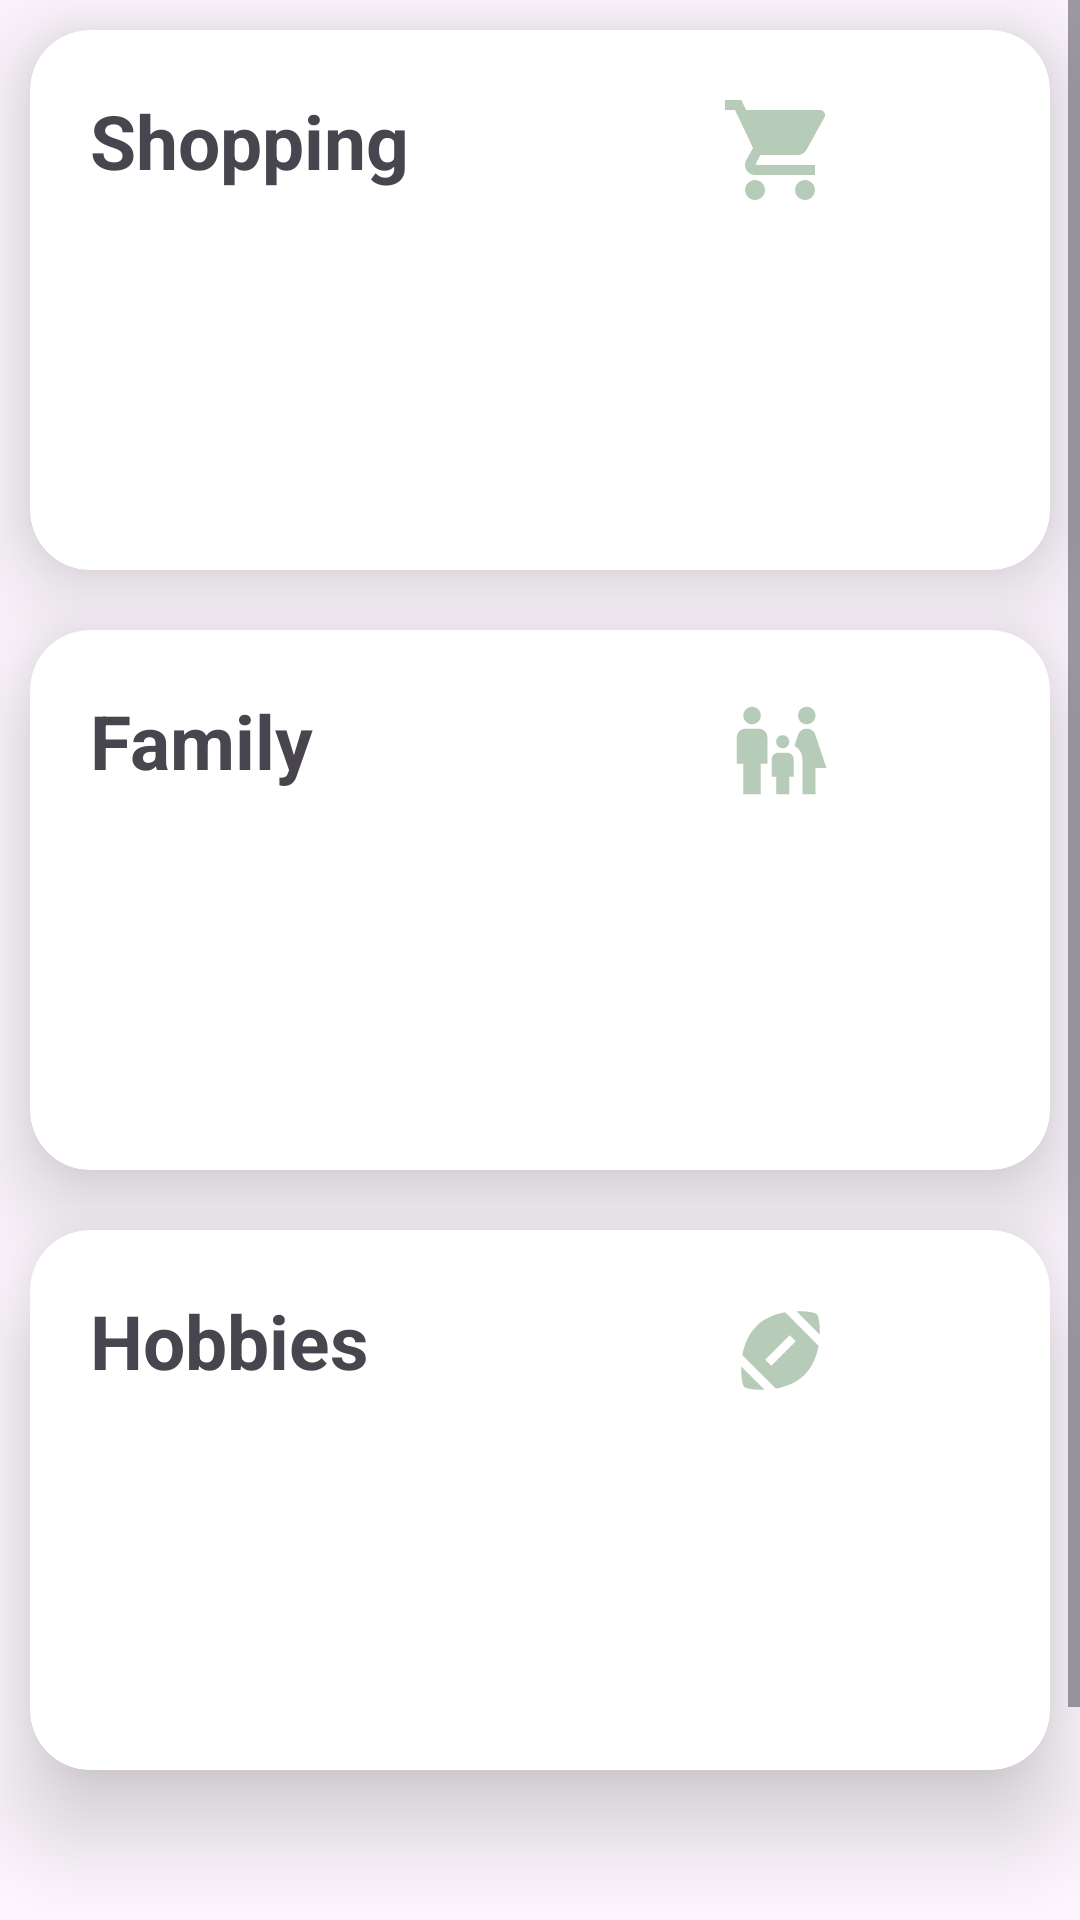

Point at icon controls on the screen. Image size 1080px×1920px, points as (x=x, y=y).
family restroom: (x=781, y=750)
sports football: (x=780, y=1350)
